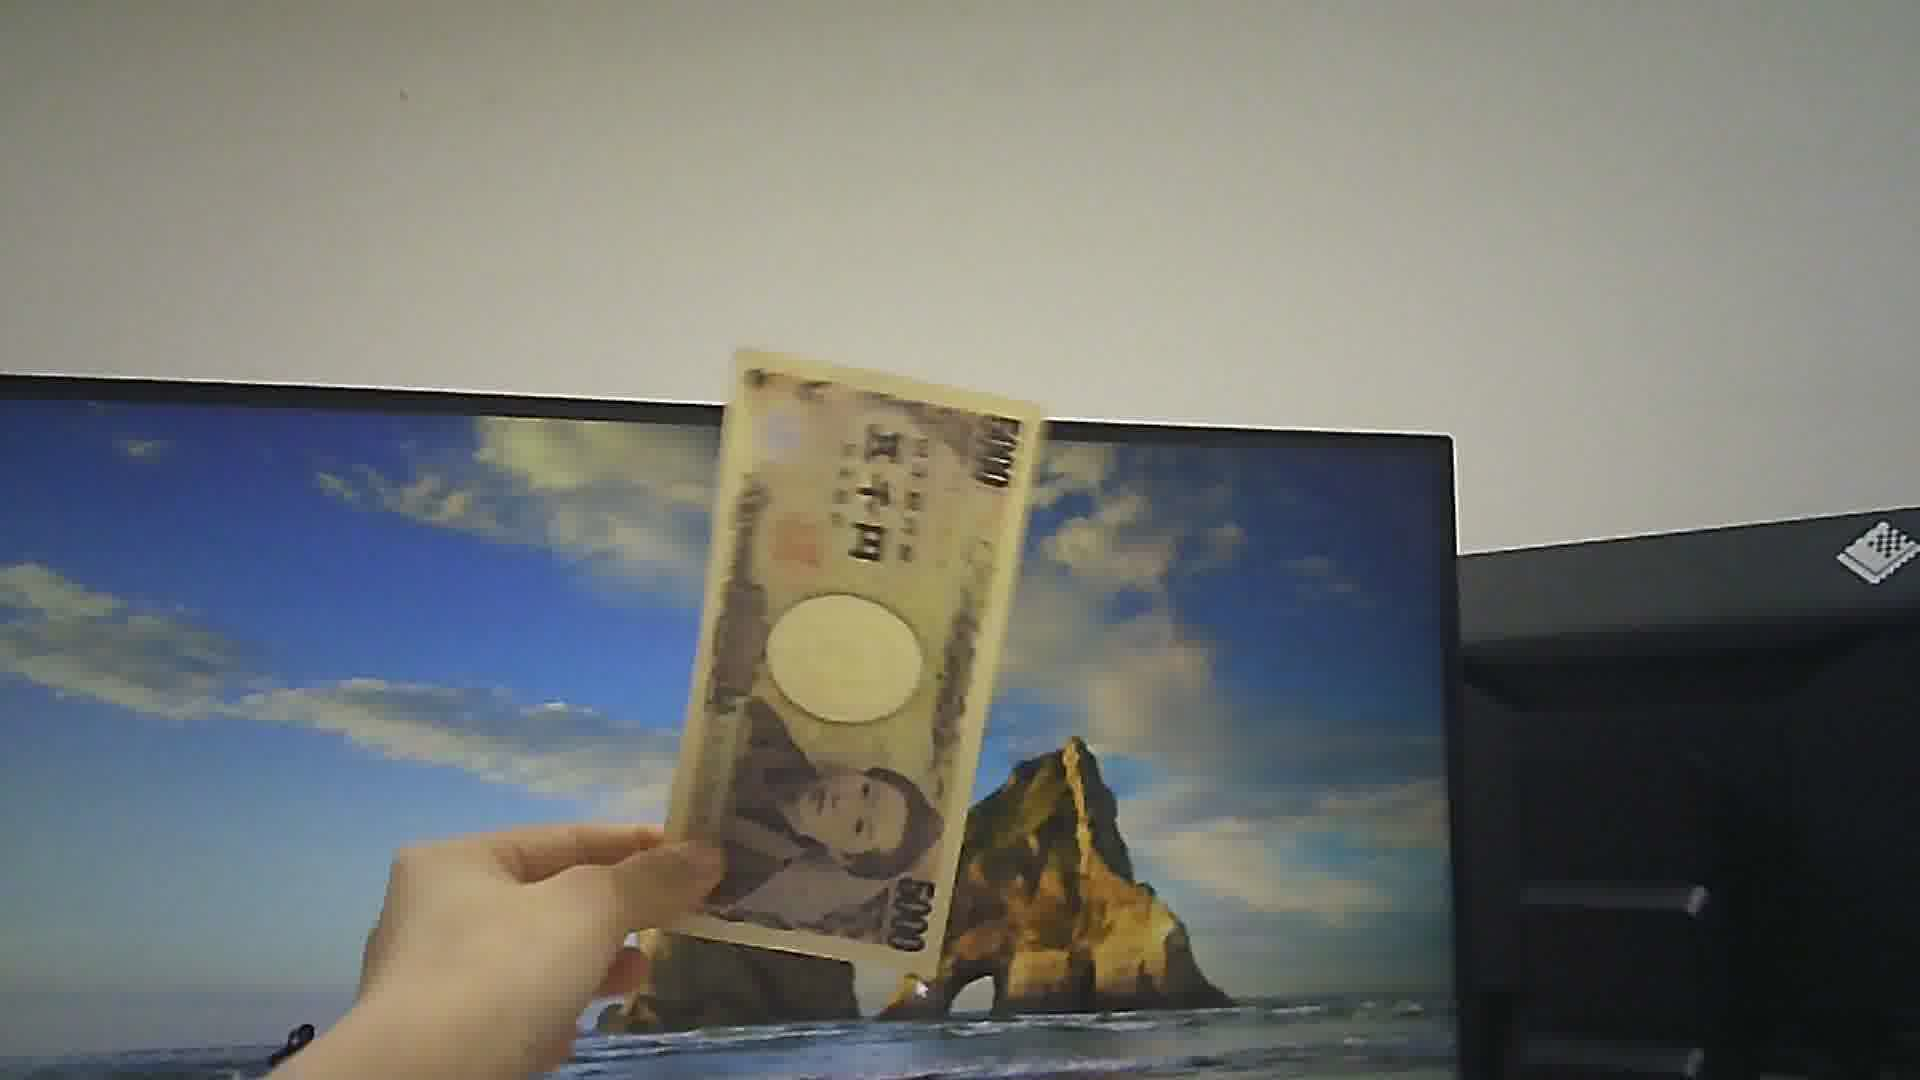5,000 Yen: (682, 352, 1040, 1007)
